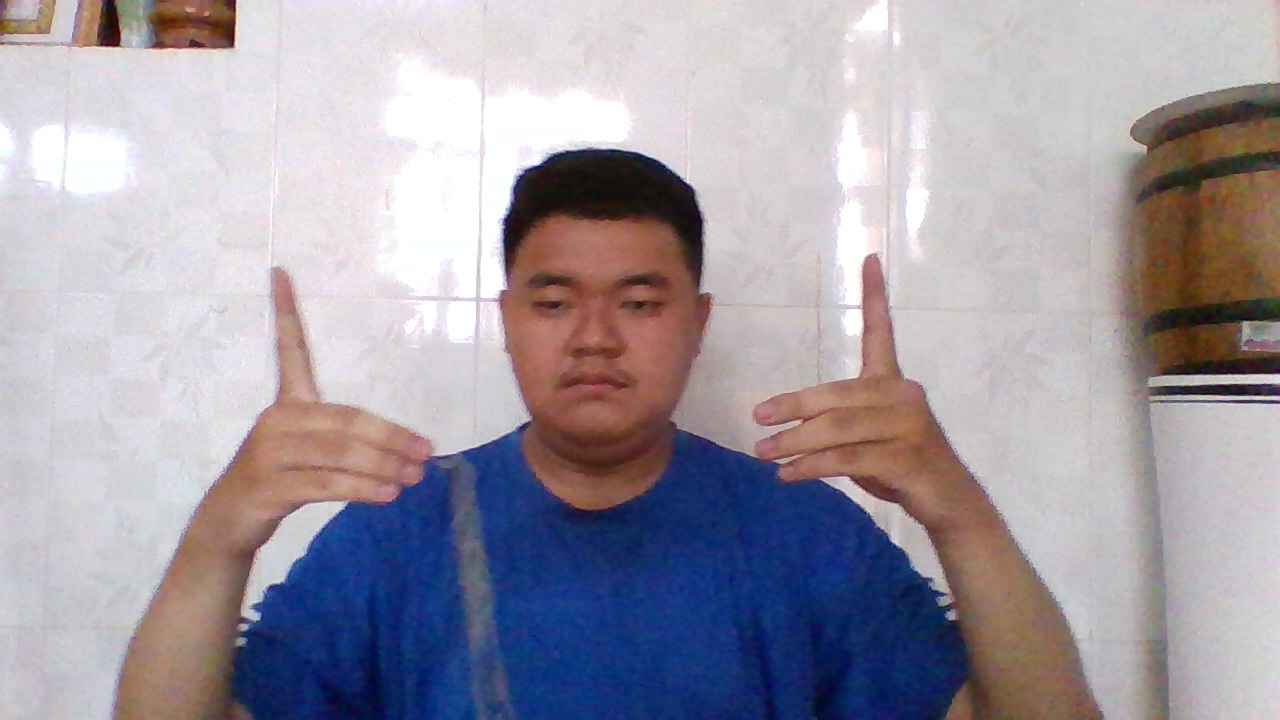D: (203, 260, 440, 567), (738, 249, 977, 537)
